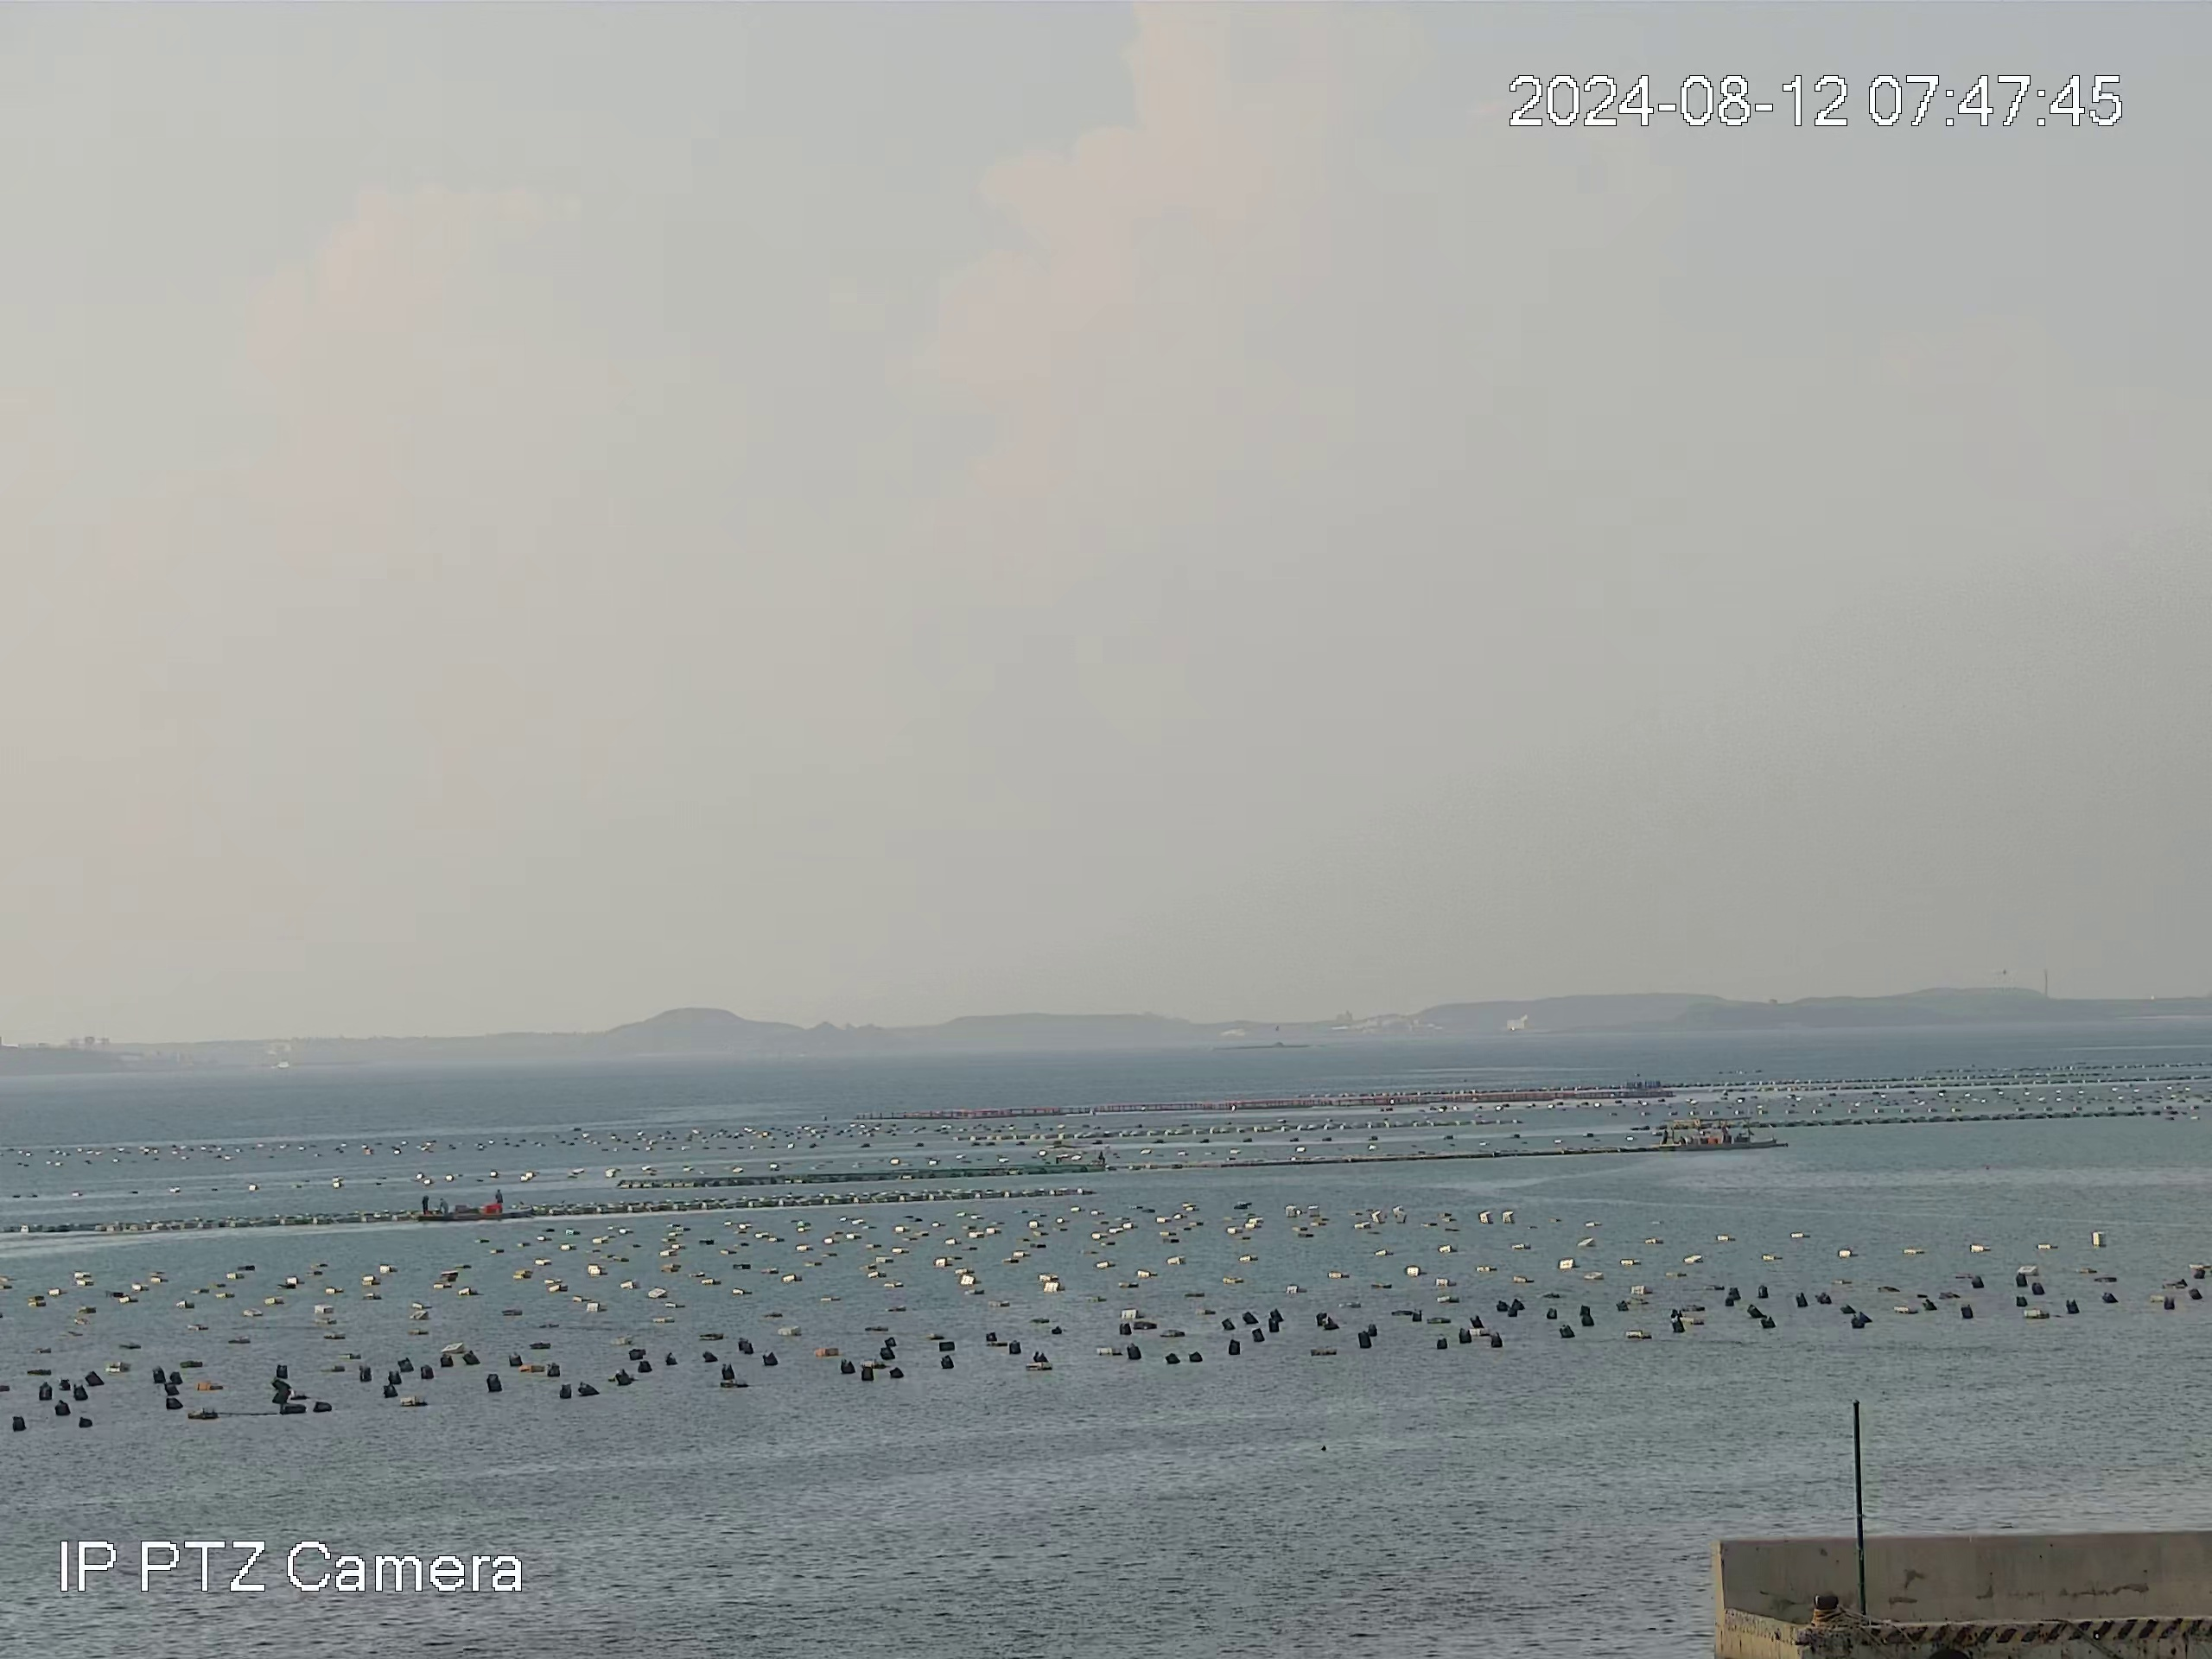boat: (416, 1188, 533, 1222), (1670, 1115, 1756, 1147)
